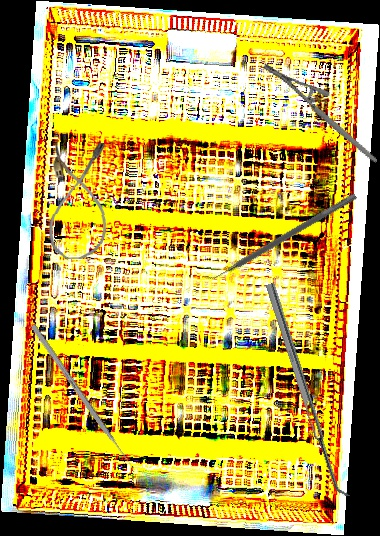Cannula: (47, 141, 110, 260)
Needle Holder: (261, 39, 378, 188)
Pusher: (30, 323, 137, 473)
Spatula Surgical: (265, 279, 353, 501), (202, 186, 358, 288)
